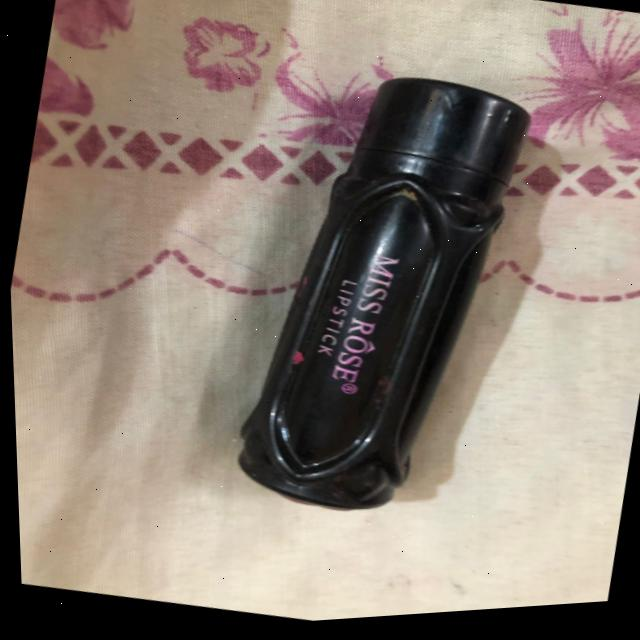lip stick: (209, 54, 549, 554)
